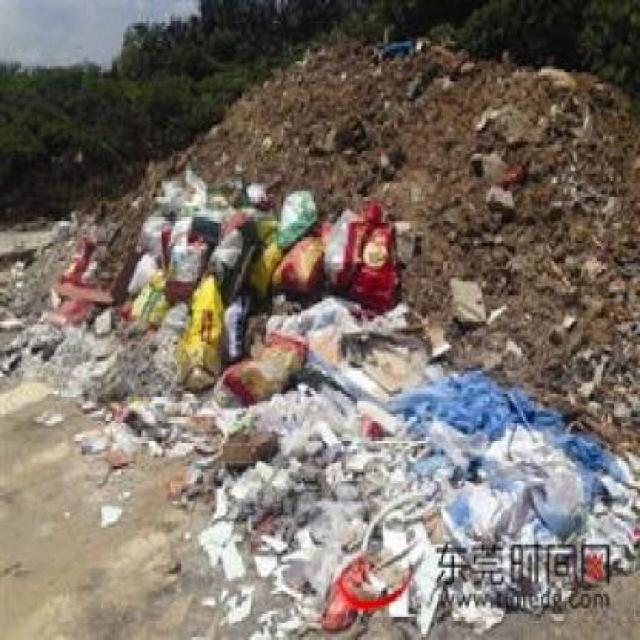garbage: (137, 180, 403, 336), (145, 342, 444, 472), (448, 368, 634, 534), (211, 483, 430, 616), (54, 239, 150, 386), (486, 157, 532, 177)
